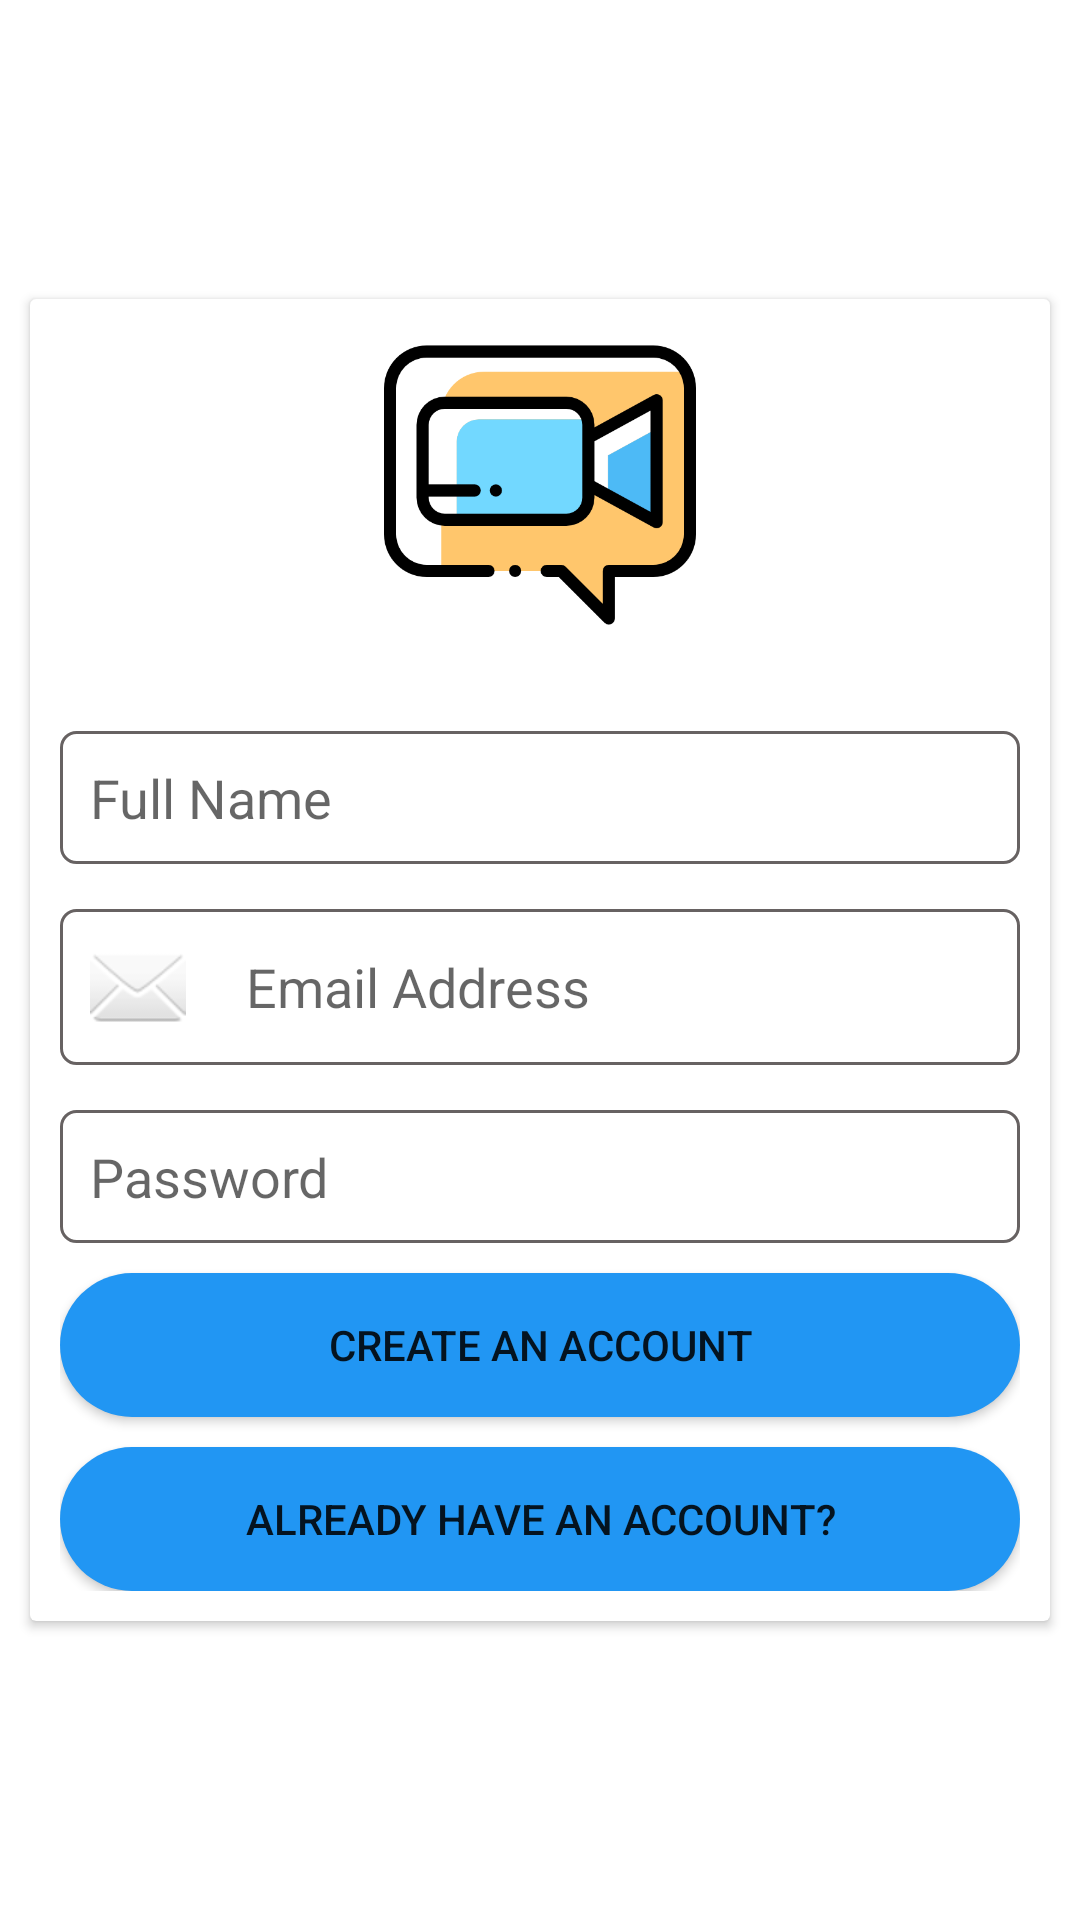

Named icons in this screenshot (1080w x 1920h) and their centers, [x,y]:
videocall: [540,485]
